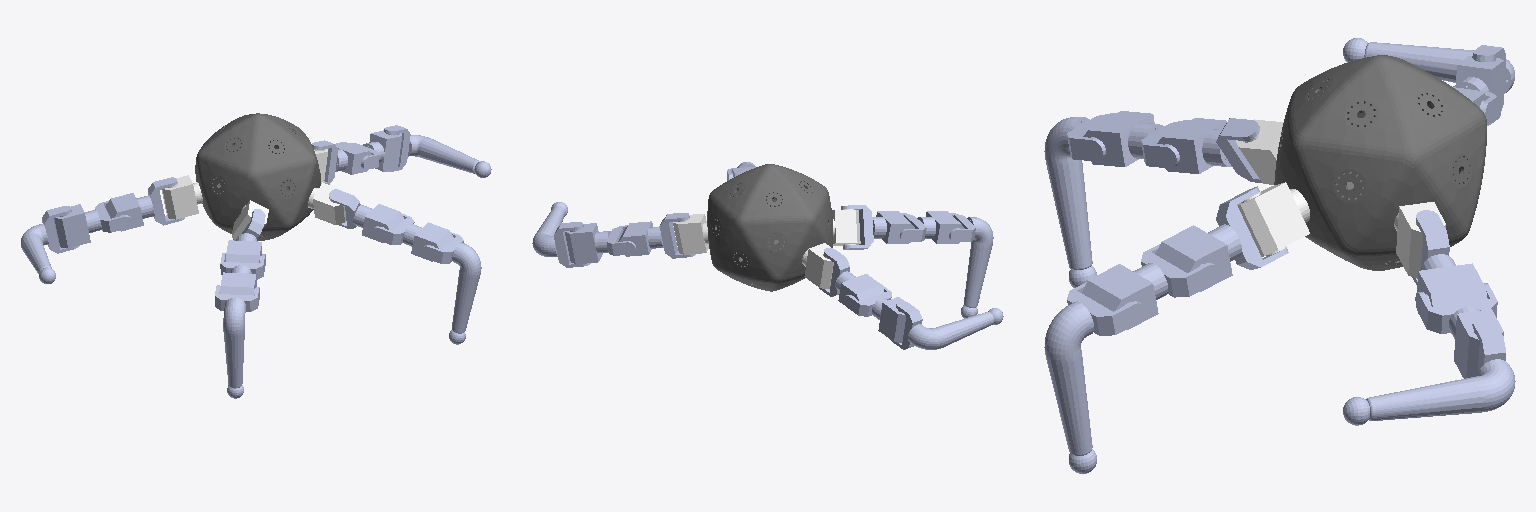
URDF robot description (mod_test):
<robot name="mod_test">
  <link name="base_link">
    <inertial>
      <origin xyz="-1.5226495220944E-06 1.5812928362389E-07 -5.05247252856584E-07" rpy="0 0 0" />
      <mass value="0" />
      <inertia ixx="0.00237499139253511" ixy="1.5717831530364E-08" ixz="1.49286265366169E-08" iyy="0.00237502154661776" iyz="-2.02154172619351E-08" izz="0.00237502595466009" />
    </inertial>
    <visual>
      <origin xyz="0 0 0" rpy="0 0 0" />
      <geometry>
        <mesh filename="package://meshes/base_link.STL" />
      </geometry>
      <material name="">
        <color rgba="0.498039215686275 0.498039215686275 0.498039215686275 0.5" />
      </material>
    </visual>
    </link>
  <link name="110">
   <inertial>
      <origin xyz="0 0 0.028508" rpy="0 0 0" />
      <mass value="0" />
      <inertia ixx="3.054E-05" ixy="-0.000000" ixz="-0.000000" iyy="2.1077E-05" iyz="-0.000000" izz="2.1165E-05" />
    </inertial>
    <visual>
      <origin xyz="0 0 0" rpy="0 0 0" />
      <geometry>
        <mesh filename="package://meshes/1.STL" />
      </geometry>
      <material name="">
        <color rgba="1 1 1 0.5" />
      </material>
    </visual>
    </link>
  <joint name="body_110" type="fixed">
    <origin xyz="0.083523 0.027138 -0.016769" rpy="1.759466 -0.000000 1.884956" />
    <parent link="base_link" />
    <child link="110" />
    <axis xyz="0 0 0" />
  </joint>
  <link name="111">
    <inertial>
      <origin xyz="0.060018 -1.4108E-06 1.4108E-06" rpy="0 0 0" />
    <mass value="0" />
      <inertia ixx="3.2684e-05" ixy="-2.5662e-09" ixz="2.5662e-09" iyy="8.4132e-05" iyz="-2.1275e-13" izz="8.4583e-05" />
    </inertial>
    <visual>
      <origin xyz="0 0 0" rpy="0 0 0" />
      <geometry>
        <mesh filename="package://meshes/module9.STL" />
      </geometry>
      <material name="">
        <color rgba="0.79216 0.81961 0.93333 0.5" />
      </material>
    </visual>
    </link>
  <joint name="110_111" type="revolute">
    <origin xyz="0 0 0.04" rpy="-1.558 -1.5708 -0.012835" />
    <parent link="110" />
    <child link="111" />
    <axis xyz="0 0 1" />
    <limit lower="-6.28" upper="6.28" effort="10" velocity="100" />
  </joint>
  <link name="112">
    <inertial>
      <origin xyz="0.060018 -1.4108E-06 1.4108E-06" rpy="0 0 0" />
    <mass value="0" />
      <inertia ixx="3.2684e-05" ixy="-2.5662e-09" ixz="2.5662e-09" iyy="8.4132e-05" iyz="-2.1275e-13" izz="8.4583e-05" />
    </inertial>
    <visual>
      <origin xyz="0 0 0" rpy="0 0 0" />
      <geometry>
        <mesh filename="package://meshes/module3.STL" />
      </geometry>
      <material name="">
        <color rgba="0.79216 0.81961 0.93333 0.5" />
      </material>
    </visual>
    </link>
  <joint name="111_112" type="revolute">
    <origin xyz="0.0816 0 0" rpy="4.712389 0 0" />
    <parent link="111" />
    <child link="112" />
    <axis xyz="0 0 1" />
    <limit lower="-6.28" upper="6.28" effort="10" velocity="100" />
  </joint>
  <link name="113">
    <inertial>
      <origin xyz="0.051733 -0.042281 -1.3878E-17" rpy="0 0 0" />
    <mass value="0" />
      <inertia ixx="0.00025425" ixy="4.8319E-05" ixz="0" iyy="5.0194E-05" iyz="-3.3141E-21" izz="0.00027482" />
    </inertial>
    <visual>
      <origin xyz="0 0 0" rpy="0 0 0" />
      <geometry>
        <mesh filename="package://meshes/leg.STL" />
      </geometry>
      <material name="">
        <color rgba="0.79216 0.81961 0.93333 0.5" />
      </material>
    </visual>
    </link>
  <joint name="112_113" type="revolute">
    <origin xyz="0.0816 0 0" rpy="1.570796 0 0" />
    <parent link="112" />
    <child link="113" />
    <axis xyz="0 0 1" />
    <limit lower="-6.28" upper="6.28" effort="10" velocity="100" />
  </joint>
  <link name="100">
   <inertial>
      <origin xyz="0 0 0.028508" rpy="0 0 0" />
      <mass value="0" />
      <inertia ixx="3.054E-05" ixy="0.000000" ixz="-0.000000" iyy="2.1077E-05" iyz="0.000021" izz="2.1165E-05" />
    </inertial>
    <visual>
      <origin xyz="0 0 0" rpy="0 0 0" />
      <geometry>
        <mesh filename="package://meshes/1.STL" />
      </geometry>
      <material name="">
        <color rgba="1 1 1 0.5" />
      </material>
    </visual>
    </link>
  <joint name="body_100" type="fixed">
    <origin xyz="0.051620 -0.071049 -0.016769" rpy="1.787804 -0.513383 0.520455" />
    <parent link="base_link" />
    <child link="100" />
    <axis xyz="0 0 0" />
  </joint>
  <link name="101">
    <inertial>
      <origin xyz="0.060018 -1.4108E-06 1.4108E-06" rpy="0 0 0" />
    <mass value="0" />
      <inertia ixx="3.2684e-05" ixy="-2.5662e-09" ixz="2.5662e-09" iyy="8.6498e-05" iyz="4.0975e-06" izz="8.2217e-05" />
    </inertial>
    <visual>
      <origin xyz="0 0 0" rpy="0 0 0" />
      <geometry>
        <mesh filename="package://meshes/module8.STL" />
      </geometry>
      <material name="">
        <color rgba="0.79216 0.81961 0.93333 0.5" />
      </material>
    </visual>
    </link>
  <joint name="100_101" type="revolute">
    <origin xyz="0 0 0.04" rpy="-1.558 -1.5708 -0.012835" />
    <parent link="100" />
    <child link="101" />
    <axis xyz="0 0 1" />
    <limit lower="-6.28" upper="6.28" effort="10" velocity="100" />
  </joint>
  <link name="102">
    <inertial>
      <origin xyz="0.060018 -1.4108E-06 1.4108E-06" rpy="0 0 0" />
    <mass value="0" />
      <inertia ixx="3.2684e-05" ixy="-2.5662e-09" ixz="2.5662e-09" iyy="9.3595e-05" iyz="-2.1275e-13" izz="7.512e-05" />
    </inertial>
    <visual>
      <origin xyz="0 0 0" rpy="0 0 0" />
      <geometry>
        <mesh filename="package://meshes/module6.STL" />
      </geometry>
      <material name="">
        <color rgba="0.79216 0.81961 0.93333 0.5" />
      </material>
    </visual>
    </link>
  <joint name="101_102" type="revolute">
    <origin xyz="0.0816 0 0" rpy="4.188790 0 0" />
    <parent link="101" />
    <child link="102" />
    <axis xyz="0 0 1" />
    <limit lower="-6.28" upper="6.28" effort="10" velocity="100" />
  </joint>
  <link name="103">
    <inertial>
      <origin xyz="0.051733 -0.042281 -1.3878E-17" rpy="0 0 0" />
    <mass value="0" />
      <inertia ixx="0.00025425" ixy="4.8319E-05" ixz="0" iyy="5.0194E-05" iyz="-3.3141E-21" izz="0.00027482" />
    </inertial>
    <visual>
      <origin xyz="0 0 0" rpy="0 0 0" />
      <geometry>
        <mesh filename="package://meshes/leg.STL" />
      </geometry>
      <material name="">
        <color rgba="0.79216 0.81961 0.93333 0.5" />
      </material>
    </visual>
    </link>
  <joint name="102_103" type="revolute">
    <origin xyz="0.0816 0 0" rpy="3.141593 0 0" />
    <parent link="102" />
    <child link="103" />
    <axis xyz="0 0 1" />
    <limit lower="-6.28" upper="6.28" effort="10" velocity="100" />
  </joint>
  <link name="140">
   <inertial>
      <origin xyz="0 0 0.028508" rpy="0 0 0" />
      <mass value="0" />
      <inertia ixx="3.054E-05" ixy="0.000000" ixz="-0.000000" iyy="2.1077E-05" iyz="-0.000000" izz="2.1165E-05" />
    </inertial>
    <visual>
      <origin xyz="0 0 0" rpy="0 0 0" />
      <geometry>
        <mesh filename="package://meshes/1.STL" />
      </geometry>
      <material name="">
        <color rgba="1 1 1 0.5" />
      </material>
    </visual>
    </link>
  <joint name="body_140" type="fixed">
    <origin xyz="-0.051620 -0.071049 -0.016769" rpy="-1.787804 -0.513383 2.621137" />
    <parent link="base_link" />
    <child link="140" />
    <axis xyz="0 0 0" />
  </joint>
  <link name="141">
    <inertial>
      <origin xyz="0.060018 -1.4108E-06 1.4108E-06" rpy="0 0 0" />
    <mass value="0" />
      <inertia ixx="3.2241e-05" ixy="3.5298e-07" ixz="2.0781e-07" iyy="8.5969e-05" iyz="-3.9192e-06" izz="8.1482e-05" />
    </inertial>
    <visual>
      <origin xyz="0 0 0" rpy="0 0 0" />
      <geometry>
        <mesh filename="package://meshes/module4.STL" />
      </geometry>
      <material name="">
        <color rgba="0.79216 0.81961 0.93333 0.5" />
      </material>
    </visual>
    </link>
  <joint name="140_141" type="revolute">
    <origin xyz="0 0 0.04" rpy="-1.558 -1.5708 -0.012835" />
    <parent link="140" />
    <child link="141" />
    <axis xyz="0 0 1" />
    <limit lower="-6.28" upper="6.28" effort="10" velocity="100" />
  </joint>
  <link name="142">
    <inertial>
      <origin xyz="0.060018 -1.4108E-06 1.4108E-06" rpy="0 0 0" />
    <mass value="0" />
      <inertia ixx="3.2684e-05" ixy="-2.5662e-09" ixz="2.5662e-09" iyy="9.3595e-05" iyz="-2.1275e-13" izz="7.512e-05" />
    </inertial>
    <visual>
      <origin xyz="0 0 0" rpy="0 0 0" />
      <geometry>
        <mesh filename="package://meshes/module6.STL" />
      </geometry>
      <material name="">
        <color rgba="0.79216 0.81961 0.93333 0.5" />
      </material>
    </visual>
    </link>
  <joint name="141_142" type="revolute">
    <origin xyz="0.0816 0 0" rpy="2.094395 0 0" />
    <parent link="141" />
    <child link="142" />
    <axis xyz="0 0 1" />
    <limit lower="-6.28" upper="6.28" effort="10" velocity="100" />
  </joint>
  <link name="143">
    <inertial>
      <origin xyz="0.051733 -0.042281 -1.3878E-17" rpy="0 0 0" />
    <mass value="0" />
      <inertia ixx="0.00025425" ixy="4.8319E-05" ixz="0" iyy="5.0194E-05" iyz="-3.3141E-21" izz="0.00027482" />
    </inertial>
    <visual>
      <origin xyz="0 0 0" rpy="0 0 0" />
      <geometry>
        <mesh filename="package://meshes/leg.STL" />
      </geometry>
      <material name="">
        <color rgba="0.79216 0.81961 0.93333 0.5" />
      </material>
    </visual>
    </link>
  <joint name="142_143" type="revolute">
    <origin xyz="0.0816 0 0" rpy="3.141593 0 0" />
    <parent link="142" />
    <child link="143" />
    <axis xyz="0 0 1" />
    <limit lower="-6.28" upper="6.28" effort="10" velocity="100" />
  </joint>
  <link name="130">
   <inertial>
      <origin xyz="0 0 0.028508" rpy="0 0 0" />
      <mass value="0" />
      <inertia ixx="3.054E-05" ixy="-0.000000" ixz="-0.000000" iyy="2.1077E-05" iyz="0.000000" izz="2.1165E-05" />
    </inertial>
    <visual>
      <origin xyz="0 0 0" rpy="0 0 0" />
      <geometry>
        <mesh filename="package://meshes/1.STL" />
      </geometry>
      <material name="">
        <color rgba="1 1 1 0.5" />
      </material>
    </visual>
    </link>
  <joint name="body_130" type="fixed">
    <origin xyz="-0.083523 0.027138 -0.016769" rpy="-1.759466 -0.000000 1.256637" />
    <parent link="base_link" />
    <child link="130" />
    <axis xyz="0 0 0" />
  </joint>
  <link name="131">
    <inertial>
      <origin xyz="0.060018 -1.4108E-06 1.4108E-06" rpy="0 0 0" />
    <mass value="0" />
      <inertia ixx="3.2684e-05" ixy="-2.5662e-09" ixz="2.5662e-09" iyy="8.4132e-05" iyz="-2.1275e-13" izz="8.4583e-05" />
    </inertial>
    <visual>
      <origin xyz="0 0 0" rpy="0 0 0" />
      <geometry>
        <mesh filename="package://meshes/module3.STL" />
      </geometry>
      <material name="">
        <color rgba="0.79216 0.81961 0.93333 0.5" />
      </material>
    </visual>
    </link>
  <joint name="130_131" type="revolute">
    <origin xyz="0 0 0.04" rpy="-1.558 -1.5708 -0.012835" />
    <parent link="130" />
    <child link="131" />
    <axis xyz="0 0 1" />
    <limit lower="-6.28" upper="6.28" effort="10" velocity="100" />
  </joint>
  <link name="132">
    <inertial>
      <origin xyz="0.060018 -1.4108E-06 1.4108E-06" rpy="0 0 0" />
    <mass value="0" />
      <inertia ixx="3.2684e-05" ixy="-2.5662e-09" ixz="2.5662e-09" iyy="8.4132e-05" iyz="-2.1275e-13" izz="8.4583e-05" />
    </inertial>
    <visual>
      <origin xyz="0 0 0" rpy="0 0 0" />
      <geometry>
        <mesh filename="package://meshes/module9.STL" />
      </geometry>
      <material name="">
        <color rgba="0.79216 0.81961 0.93333 0.5" />
      </material>
    </visual>
    </link>
  <joint name="131_132" type="revolute">
    <origin xyz="0.0816 0 0" rpy="1.570796 0 0" />
    <parent link="131" />
    <child link="132" />
    <axis xyz="0 0 1" />
    <limit lower="-6.28" upper="6.28" effort="10" velocity="100" />
  </joint>
  <link name="133">
    <inertial>
      <origin xyz="0.051733 -0.042281 -1.3878E-17" rpy="0 0 0" />
    <mass value="0" />
      <inertia ixx="0.00025425" ixy="4.8319E-05" ixz="0" iyy="5.0194E-05" iyz="-3.3141E-21" izz="0.00027482" />
    </inertial>
    <visual>
      <origin xyz="0 0 0" rpy="0 0 0" />
      <geometry>
        <mesh filename="package://meshes/leg.STL" />
      </geometry>
      <material name="">
        <color rgba="0.79216 0.81961 0.93333 0.5" />
      </material>
    </visual>
    </link>
  <joint name="132_133" type="revolute">
    <origin xyz="0.0816 0 0" rpy="4.712389 0 0" />
    <parent link="132" />
    <child link="133" />
    <axis xyz="0 0 1" />
    <limit lower="-6.28" upper="6.28" effort="10" velocity="100" />
  </joint>
  <link name="ball_1">
    <inertial>
    <origin xyz="0 0 0" rpy="0 0 0" />
    <mass value="0" />
      <inertia ixx="0" ixy="0" ixz="0" iyy="0" iyz="0" izz="0" />
    </inertial>    <visual>
      <origin xyz="0 0 0" rpy="0 0 0" />
     <geometry>
        <sphere radius="0.01" />
      </geometry>
      <material name="green">
        <color rgba="0.22 1 0.4 0.5" />
      </material>
    </visual>
  </link>
  <joint name="113_ball1" type="fixed">
    <origin xyz="0.0612 -0.13431 0" rpy="0 0 0" />
    <parent link="113" />
    <child link="ball_1" />
    <axis xyz="0 0 0" />
  </joint>
  <link name="ball_2">
    <inertial>
    <origin xyz="0 0 0" rpy="0 0 0" />
    <mass value="0" />
      <inertia ixx="0" ixy="0" ixz="0" iyy="0" iyz="0" izz="0" />
    </inertial>    <visual>
      <origin xyz="0 0 0" rpy="0 0 0" />
      <geometry>
        <sphere radius="0.01" />
      </geometry>
      <material name="blue">
        <color rgba="0.16 0.52 0.8 0.5" />
      </material>
    </visual>
  </link>
  <joint name="103_ball2" type="fixed">
    <origin xyz="0.0612 -0.13431 0" rpy="0 0 0" />
    <parent link="103" />
    <child link="ball_2" />
    <axis xyz="0 0 0" />
  </joint>
  <link name="ball_3">
    <inertial>
    <origin xyz="0 0 0" rpy="0 0 0" />
    <mass value="0" />
      <inertia ixx="0" ixy="0" ixz="0" iyy="0" iyz="0" izz="0" />
    </inertial>    <visual>
      <origin xyz="0 0 0" rpy="0 0 0" />
     <geometry>
        <sphere radius="0.01" />
      </geometry>
      <material name="blue">
        <color rgba="0.16 0.52 0.8 0.5" />
      </material>
    </visual>
  </link>
  <joint name="143_ball3" type="fixed">
    <origin xyz="0.0612 -0.13431 0" rpy="0 0 0" />
    <parent link="143" />
    <child link="ball_3" />
    <axis xyz="0 0 0" />
  </joint>
  <link name="ball_4">
    <inertial>
    <origin xyz="0 0 0" rpy="0 0 0" />
    <mass value="0" />
      <inertia ixx="0" ixy="0" ixz="0" iyy="0" iyz="0" izz="0" />
    </inertial>    <visual>
      <origin xyz="0 0 0" rpy="0 0 0" />
      <geometry>
        <sphere radius="0.01" />
      </geometry>
      <material name="yellow">
        <color rgba="1 1 0 0.5" />
      </material>
    </visual>
  </link>
  <joint name="133_ball4" type="fixed">
    <origin xyz="0.0612 -0.13431 0" rpy="0 0 0" />
    <parent link="133" />
    <child link="ball_4" />
    <axis xyz="0 0 0" />
  </joint>
</robot>

--- Facts derived from the render (not from the file) ---
Views: 3 orthographic renders of the robot side by side, from view 1: azimuth 30°, elevation 25°; view 2: azimuth 150°, elevation 25°; view 3: azimuth 270°, elevation 25°.
Model mod_test with 21 links and 20 joints (12 revolute, 8 fixed), rooted at base_link, posed every joint at zero.
Links seen in each view (by area): view 1: base_link, 103, 143, 113, 132, 133, 131, 101, 102, 142, 111, 112 (+4 smaller); view 2: base_link, 133, 143, 112, 111, 113, 141, 132, 131, 142, 110, 130 (+1 smaller); view 3: base_link, 103, 113, 143, 101, 102, 141, 111, 142, 100, 133, 112 (+3 smaller).
Boxes of the visible links, bbox=[...] form: base_link: bbox=[195, 113, 320, 240]; 103: bbox=[421, 232, 481, 344]; 143: bbox=[215, 285, 259, 398]; 113: bbox=[382, 125, 491, 177]; 132: bbox=[54, 201, 131, 247]; 133: bbox=[21, 206, 78, 283]; 131: bbox=[105, 177, 184, 231]; 101: bbox=[329, 189, 404, 242]; 102: bbox=[371, 213, 453, 261]; 142: bbox=[219, 253, 265, 295]; 111: bbox=[312, 140, 371, 184]; 112: bbox=[350, 130, 401, 170]; base_link: bbox=[707, 164, 832, 291]; 133: bbox=[891, 301, 1003, 349]; 143: bbox=[949, 213, 993, 318]; 112: bbox=[565, 223, 635, 263]; 111: bbox=[618, 213, 695, 258]; 113: bbox=[532, 202, 590, 267]; 141: bbox=[841, 205, 914, 249]; 132: bbox=[844, 284, 905, 342]; 131: bbox=[819, 248, 884, 304]; 142: bbox=[900, 211, 964, 243]; 110: bbox=[673, 214, 708, 254]; 130: bbox=[802, 243, 833, 288]; base_link: bbox=[1274, 55, 1486, 270]; 103: bbox=[1044, 282, 1145, 473]; 113: bbox=[1343, 315, 1515, 425]; 143: bbox=[1044, 113, 1116, 287]; 101: bbox=[1155, 186, 1288, 291]; 102: bbox=[1082, 244, 1219, 329]; 141: bbox=[1157, 118, 1261, 182]; 111: bbox=[1412, 210, 1487, 306]; 142: bbox=[1083, 111, 1190, 167]; 100: bbox=[1237, 182, 1309, 256]; 133: bbox=[1343, 38, 1514, 125]; 112: bbox=[1415, 283, 1503, 378].
Size in the robot's own frame: 0.7693 by 0.4125 by 0.3132 metres.
17 mesh visuals loaded from 8 distinct referenced files (8 binary STL).